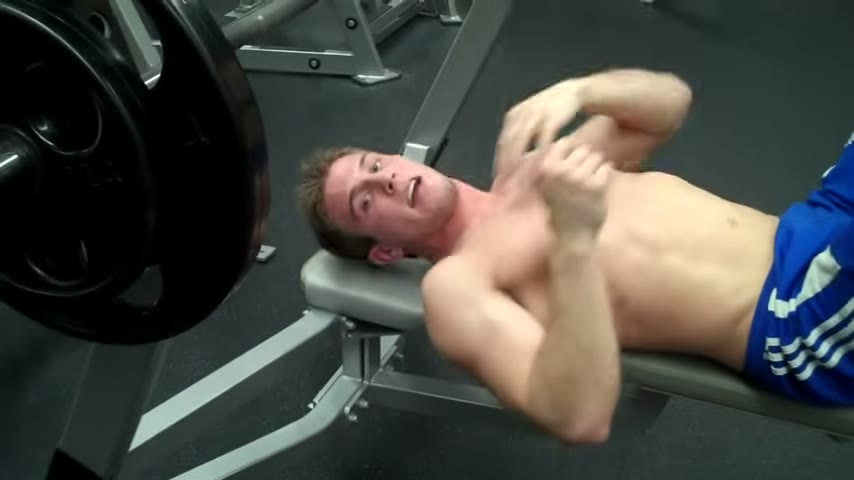barbell_plate_side: (142, 0, 286, 480)
